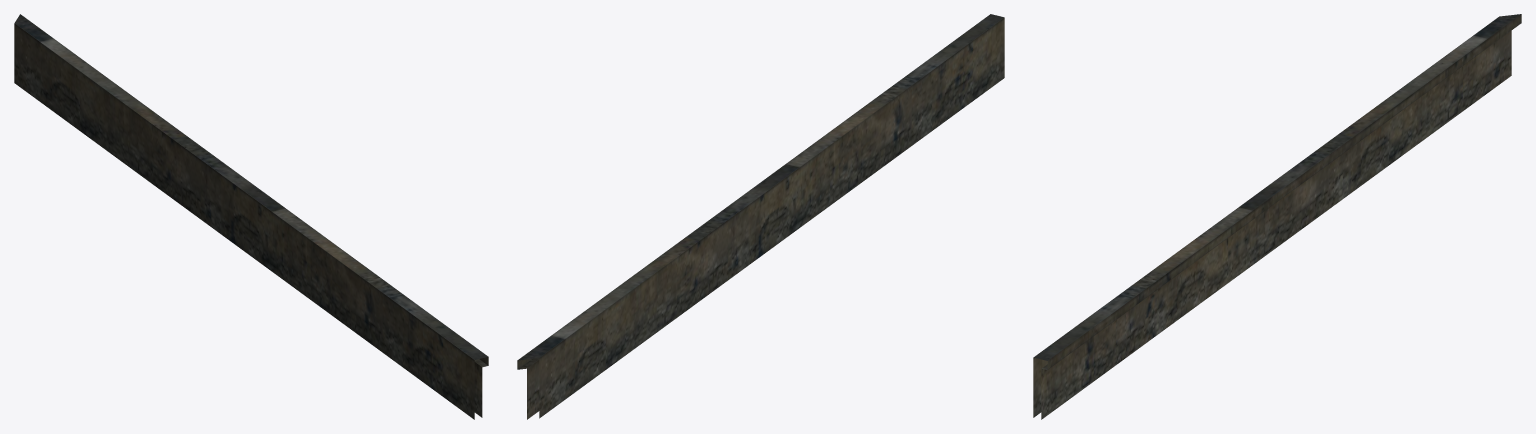
The model's file is Roof_SideWall_01.FBX.
3 renders of one model, left to right at view 1: azimuth 30°, elevation 25°; view 2: azimuth 150°, elevation 25°; view 3: azimuth 330°, elevation 25°, orthographic.
Parts seen in each view (by area): view 1: Roof_SideWall_01; view 2: Roof_SideWall_01; view 3: Roof_SideWall_01.
Boxes of the visible parts, bbox=[...] form: Roof_SideWall_01: bbox=[14, 14, 488, 419]; Roof_SideWall_01: bbox=[517, 14, 1004, 419]; Roof_SideWall_01: bbox=[1033, 14, 1521, 419].
Bounding box in the file's own units: 22.66 × 92.93 × 1318.
